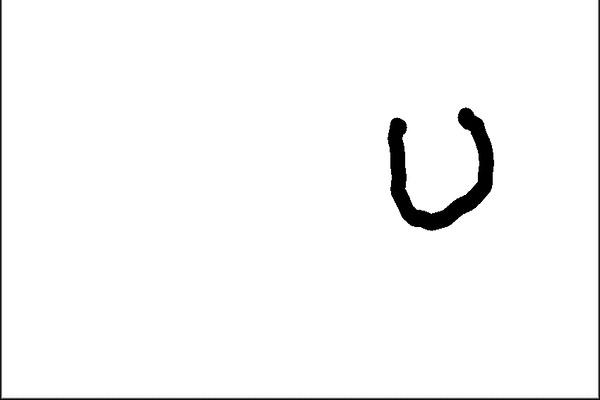U: (376, 103, 498, 229)
